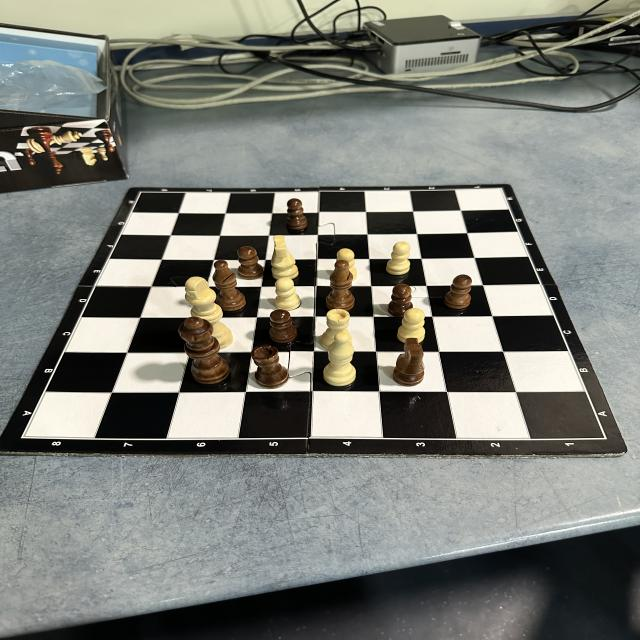Black-Bishop: (214, 260, 246, 312), (326, 260, 354, 312)
Black-Knight: (394, 337, 426, 386)
Black-Pawn: (268, 309, 297, 343), (445, 274, 472, 310), (238, 247, 264, 280), (388, 284, 412, 317), (285, 198, 308, 230)
Black-Queen: (178, 317, 230, 384)
Black-Rook: (252, 345, 290, 389)
White-Bishop: (323, 333, 355, 386)
White-King: (184, 276, 233, 349)
White-Knight: (271, 236, 298, 279)
White-Pawn: (397, 309, 425, 343), (386, 242, 411, 276), (274, 278, 300, 310), (335, 249, 357, 280)
White-Rook: (321, 309, 351, 350)
